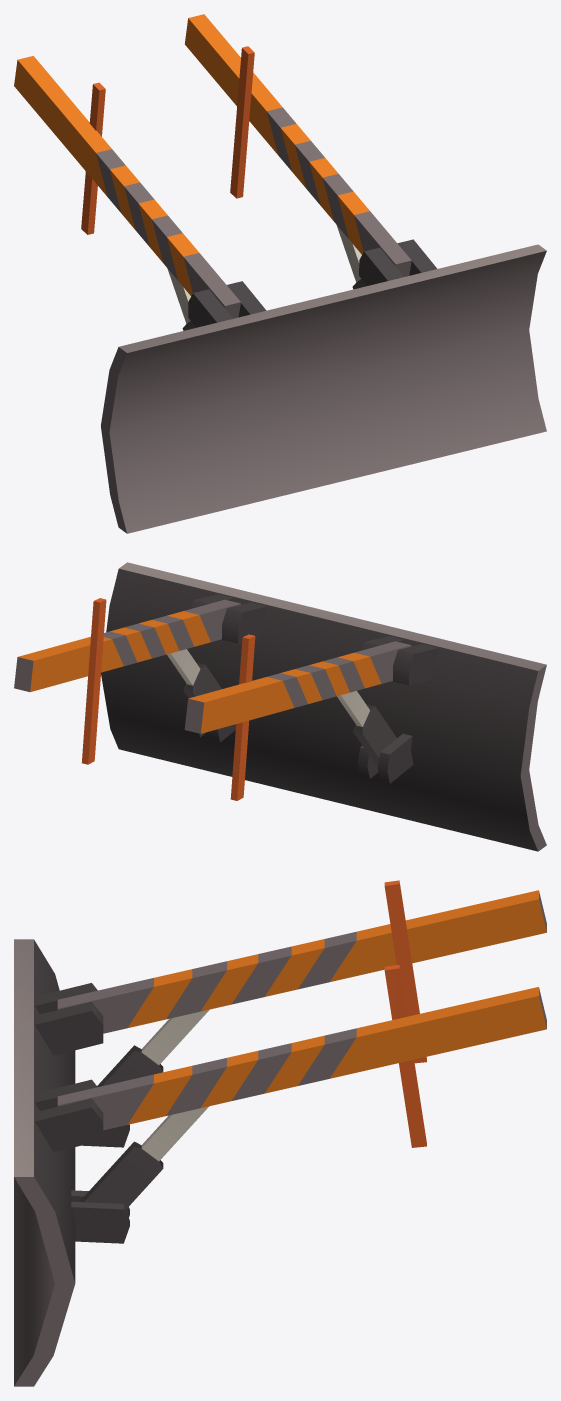
File: kovsh.fbx
3 renders of one model, top to bottom at view 1: azimuth 30°, elevation 25°; view 2: azimuth 150°, elevation 25°; view 3: azimuth 270°, elevation 25°, orthographic. The views are drawn at different scales.
Parts seen in each view (by area): view 1: kovsh; view 2: kovsh; view 3: kovsh.
Boxes of the visible parts, left/top/right/bottom form: kovsh: left=14, top=14, right=546, bottom=533; kovsh: left=14, top=562, right=546, bottom=851; kovsh: left=14, top=880, right=546, bottom=1386.
Bounding box in the file's own units: 491 × 330 × 465.
